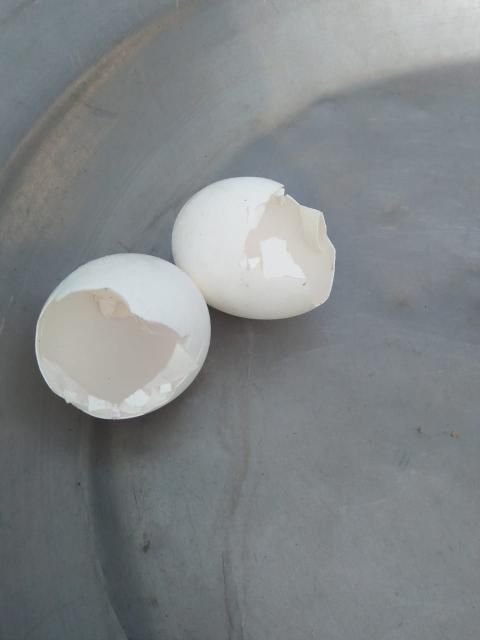Roto: (34, 252, 212, 420), (170, 175, 336, 320)
